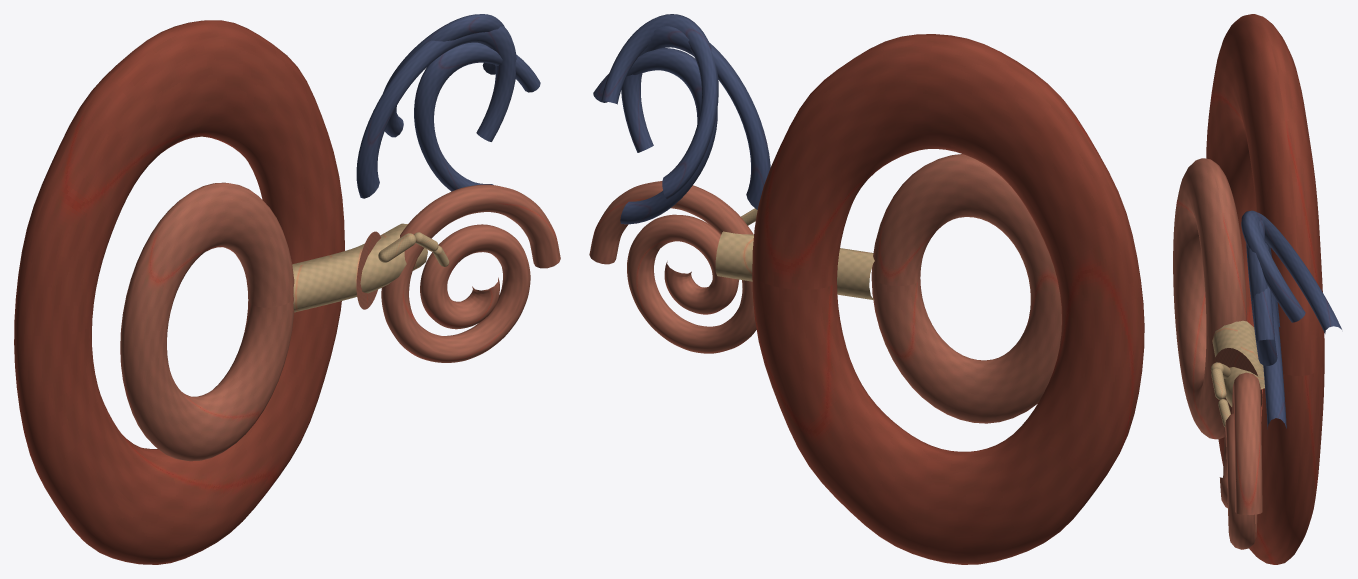
The model's file is ear.a07ccf85.glb.
The picture shows the model from 3 angles, left to right: view 1: azimuth 30°, elevation 25°; view 2: azimuth 150°, elevation 25°; view 3: azimuth 270°, elevation 25°; orthographic projection.
Parts seen in each view (by area): view 1: procedural-ear-surface-1, procedural-ear-surface-2, procedural-ear-surface-8, procedural-ear-surface-9, procedural-ear-surface-3, procedural-ear-surface-10, procedural-ear-surface-11, procedural-ear-surface-4; view 2: procedural-ear-surface-1, procedural-ear-surface-2, procedural-ear-surface-8, procedural-ear-surface-11, procedural-ear-surface-9, procedural-ear-surface-10, procedural-ear-surface-3; view 3: procedural-ear-surface-1, procedural-ear-surface-2, procedural-ear-surface-8, procedural-ear-surface-11, procedural-ear-surface-10, procedural-ear-surface-3, procedural-ear-surface-9, procedural-ear-surface-4, procedural-ear-surface-6.
Part boxes in pixels (<box>): procedural-ear-surface-1: <box>14,20,344,564</box>; procedural-ear-surface-2: <box>120,182,294,461</box>; procedural-ear-surface-8: <box>381,184,560,362</box>; procedural-ear-surface-9: <box>356,25,516,198</box>; procedural-ear-surface-3: <box>292,223,427,312</box>; procedural-ear-surface-10: <box>414,42,540,191</box>; procedural-ear-surface-11: <box>383,14,504,137</box>; procedural-ear-surface-4: <box>356,231,380,309</box>; procedural-ear-surface-1: <box>752,34,1144,564</box>; procedural-ear-surface-2: <box>871,154,1061,423</box>; procedural-ear-surface-8: <box>589,181,756,353</box>; procedural-ear-surface-11: <box>601,14,718,199</box>; procedural-ear-surface-9: <box>621,26,770,209</box>; procedural-ear-surface-10: <box>593,48,717,224</box>; procedural-ear-surface-3: <box>715,231,874,300</box>; procedural-ear-surface-1: <box>1206,14,1324,564</box>; procedural-ear-surface-2: <box>1173,158,1246,439</box>; procedural-ear-surface-8: <box>1219,372,1262,549</box>; procedural-ear-surface-11: <box>1241,210,1341,333</box>; procedural-ear-surface-10: <box>1252,242,1286,429</box>; procedural-ear-surface-3: <box>1212,320,1264,406</box>; procedural-ear-surface-9: <box>1246,220,1280,365</box>; procedural-ear-surface-4: <box>1213,348,1262,414</box>; procedural-ear-surface-6: <box>1211,367,1226,399</box>.
Size of the model in its own units: 3.22 by 2.97 by 0.8777.
4 materials, 4 textured.
